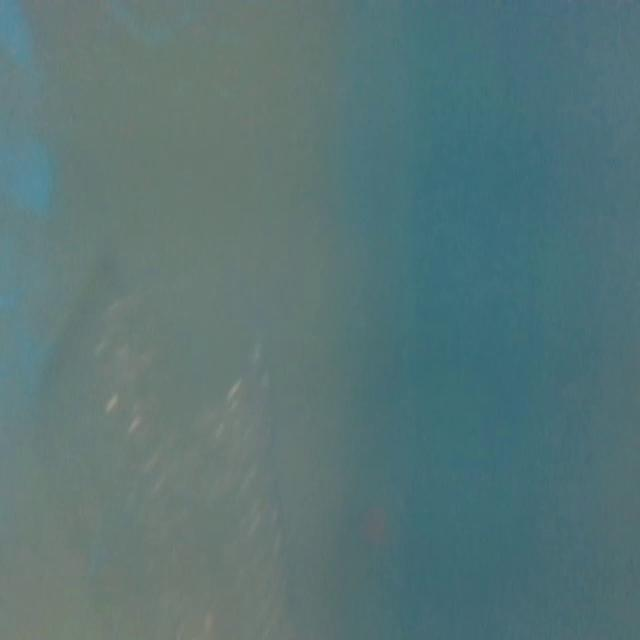plastic bottle: (62, 270, 293, 640)
